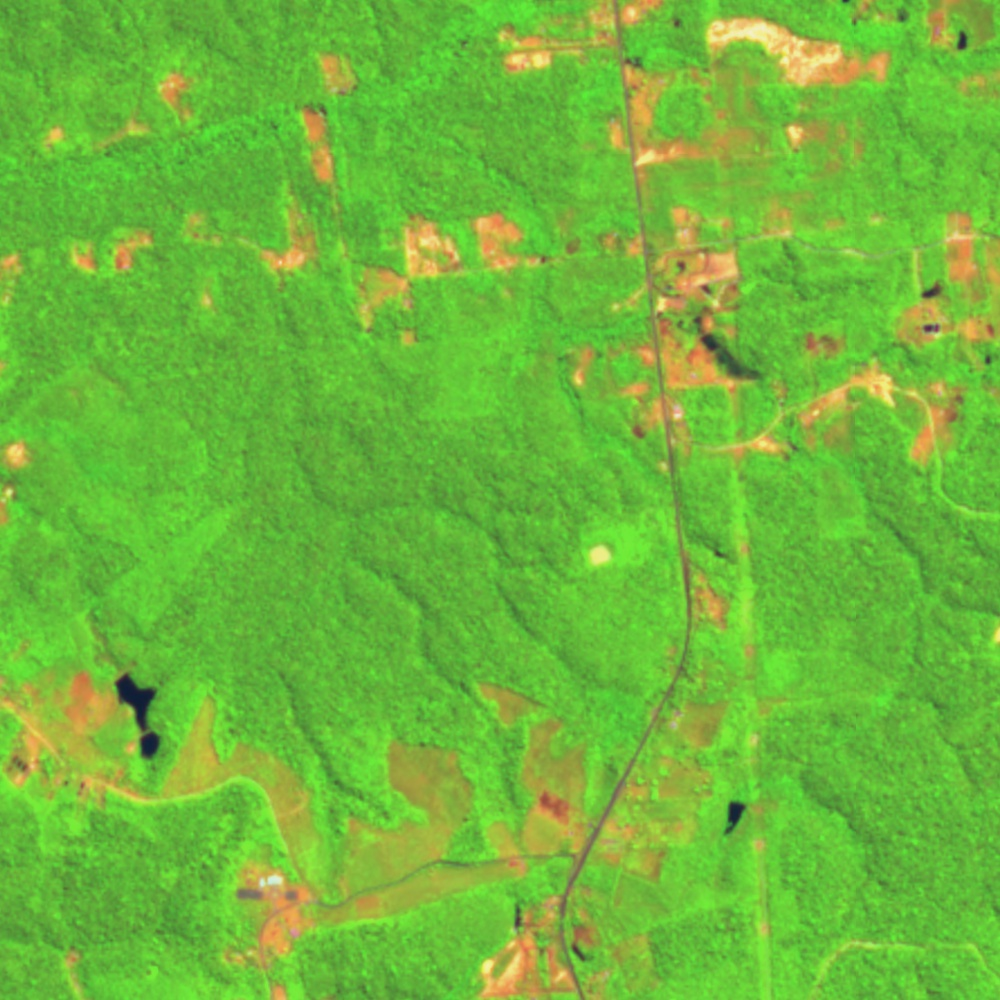legal: (307, 683, 592, 928), (559, 199, 795, 463), (626, 14, 890, 181), (348, 198, 551, 345), (159, 693, 315, 864), (1, 662, 166, 815), (788, 326, 965, 465), (605, 693, 735, 867), (474, 891, 659, 1000), (897, 213, 1000, 376), (180, 185, 331, 286), (223, 852, 322, 1000), (298, 42, 368, 185), (847, 1, 1000, 60), (491, 16, 622, 67), (40, 106, 172, 150), (694, 536, 752, 631), (65, 228, 160, 277), (1, 434, 40, 528), (725, 783, 778, 848), (579, 519, 645, 565), (157, 67, 199, 121), (957, 60, 1000, 103), (596, 1, 655, 32), (59, 948, 90, 1000), (1, 250, 24, 299)
